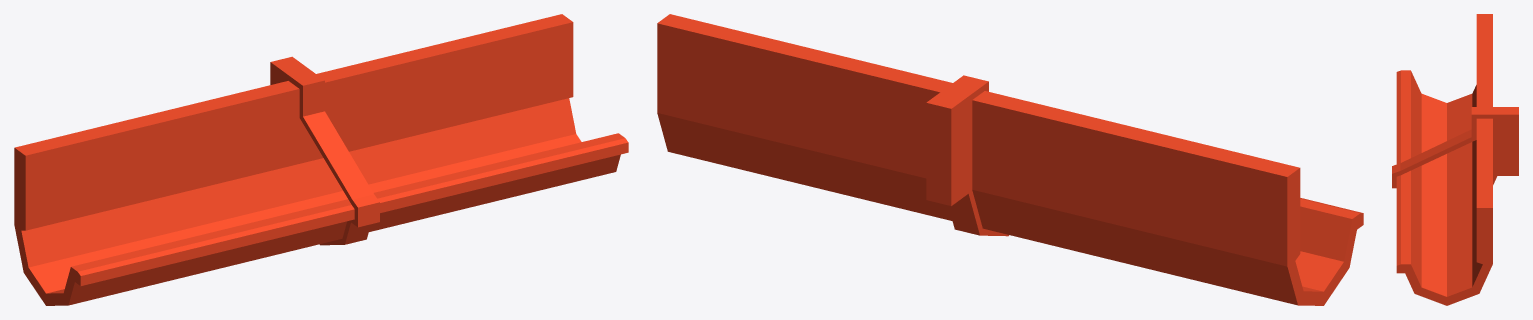
The model's file is SM_Gutter_Moderate_1m.fbx.
3 renders of one model, left to right at view 1: azimuth 30°, elevation 25°; view 2: azimuth 150°, elevation 25°; view 3: azimuth 270°, elevation 25°, orthographic. The views are drawn at different scales.
Parts seen in each view (by area): view 1: gutter-moderate-1m; view 2: gutter-moderate-1m; view 3: gutter-moderate-1m.
Part boxes in pixels (left/top/right/bottom): gutter-moderate-1m: left=14, top=14, right=628, bottom=305; gutter-moderate-1m: left=657, top=14, right=1363, bottom=305; gutter-moderate-1m: left=1392, top=14, right=1518, bottom=305.
Bounding box in the file's own units: 0.9995 × 0.2563 × 0.2766.
